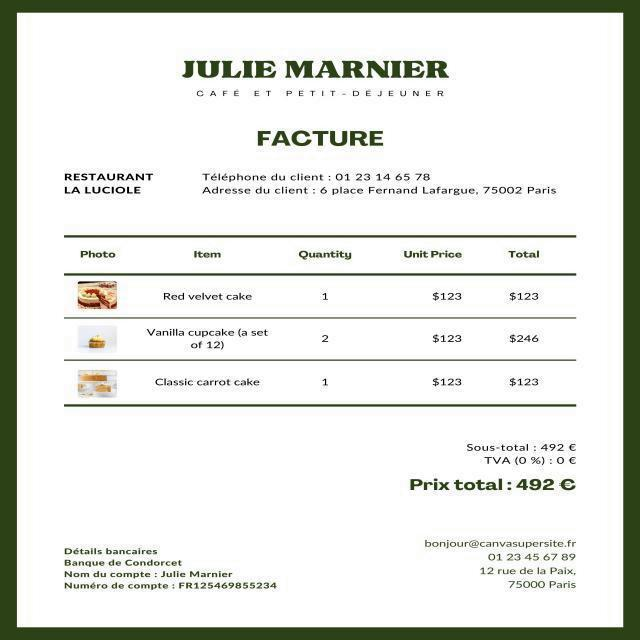paragraph: (54, 524, 307, 607), (189, 166, 578, 213), (386, 431, 597, 505), (178, 53, 474, 101), (414, 529, 590, 597), (58, 152, 162, 206), (251, 119, 406, 153)
table: (49, 233, 598, 405)
